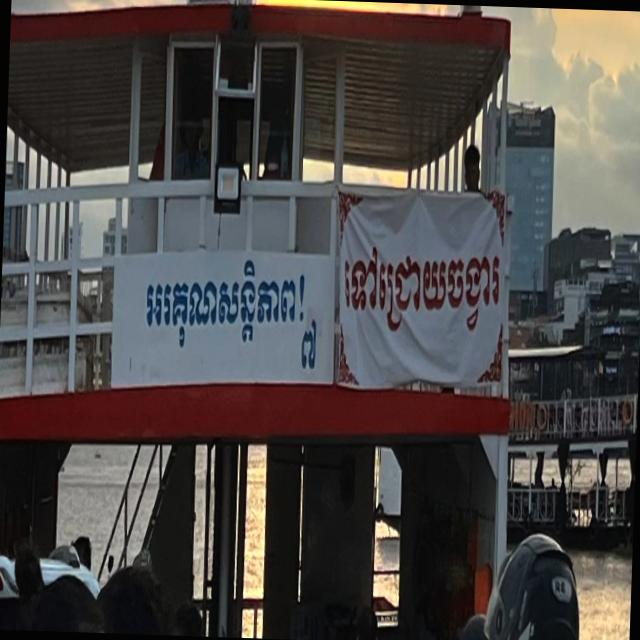Yolov11_80vkh: (339, 235, 503, 338), (141, 252, 310, 351), (299, 315, 321, 382)
